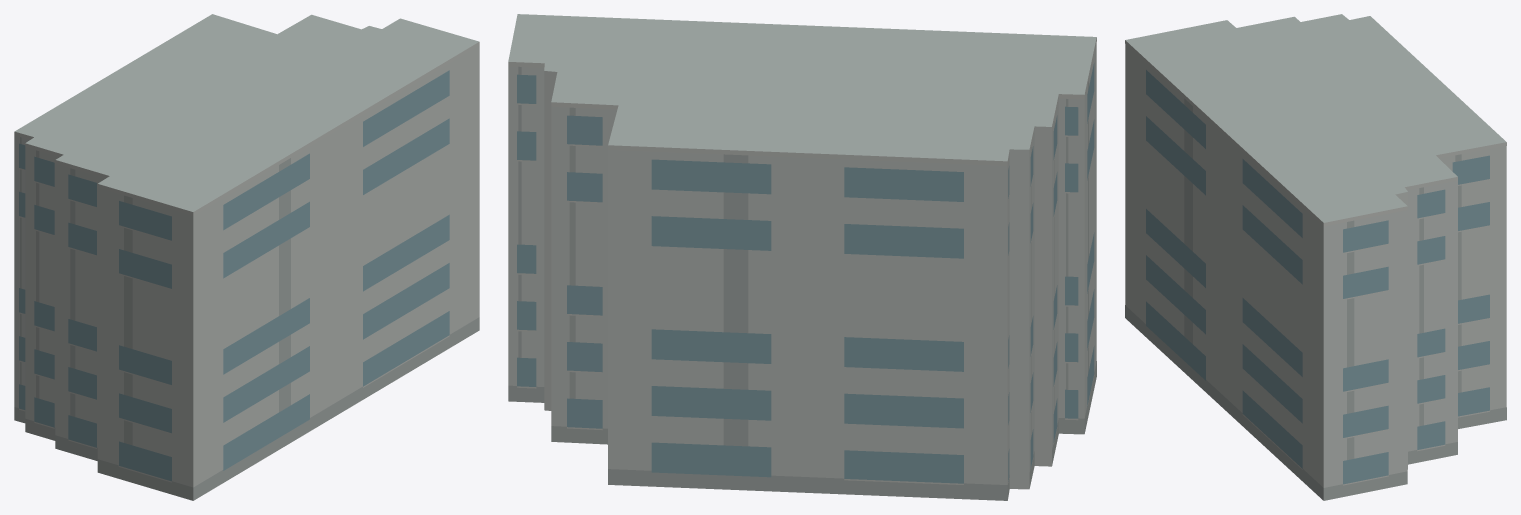
File: survey-upis-32518890.glb
The picture shows the model from 3 angles, left to right: view 1: azimuth 30°, elevation 25°; view 2: azimuth 150°, elevation 25°; view 3: azimuth 270°, elevation 25°; orthographic projection. The views are drawn at different scales.
Visible parts, largest first — view 1: survey-upis-32518890.tmp; view 2: survey-upis-32518890.tmp; view 3: survey-upis-32518890.tmp.
Part boxes in pixels (x1,y1,x2,y2): survey-upis-32518890.tmp: [14, 14, 479, 500]; survey-upis-32518890.tmp: [508, 14, 1096, 500]; survey-upis-32518890.tmp: [1125, 14, 1506, 500].
Size of the model in its own units: 29.35 by 18.2 by 22.66.
